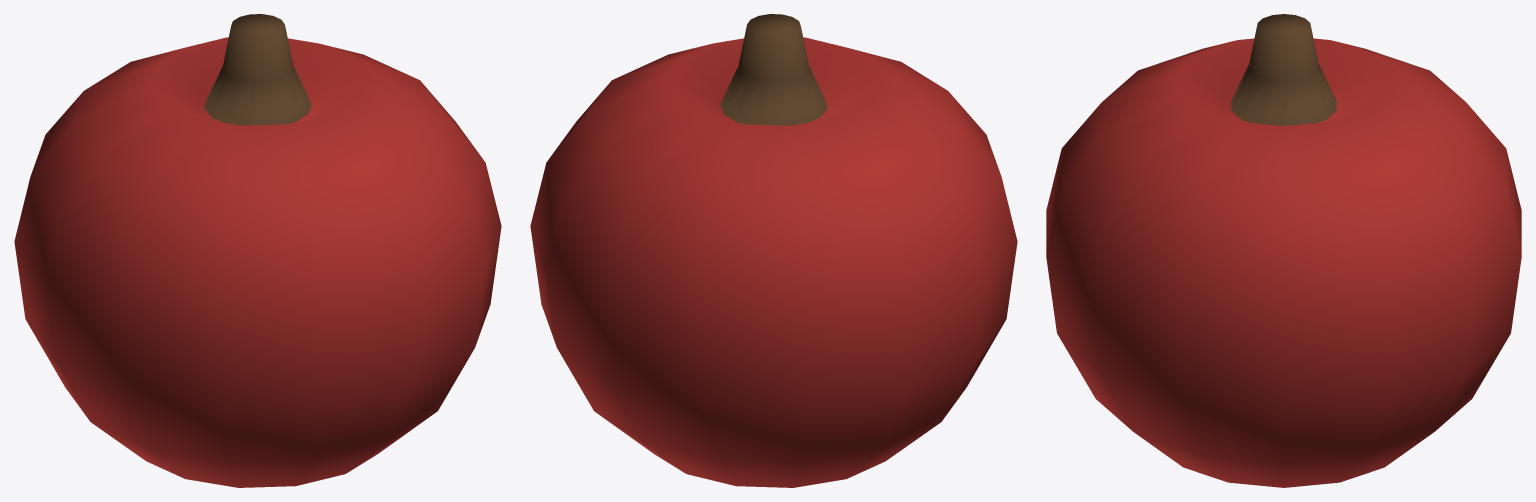
File: apple.glb
3 views of the same model, side by side, from view 1: azimuth 30°, elevation 25°; view 2: azimuth 150°, elevation 25°; view 3: azimuth 270°, elevation 25° (orthographic).
Parts seen in each view (by area): view 1: apple; view 2: apple; view 3: apple.
Boxes of the visible parts, x1=… form: apple: x1=14, y1=14, x2=501, y2=487; apple: x1=530, y1=14, x2=1017, y2=487; apple: x1=1046, y1=14, x2=1521, y2=487.
Size of the model in its own units: 0.08 by 0.0789 by 0.078.
